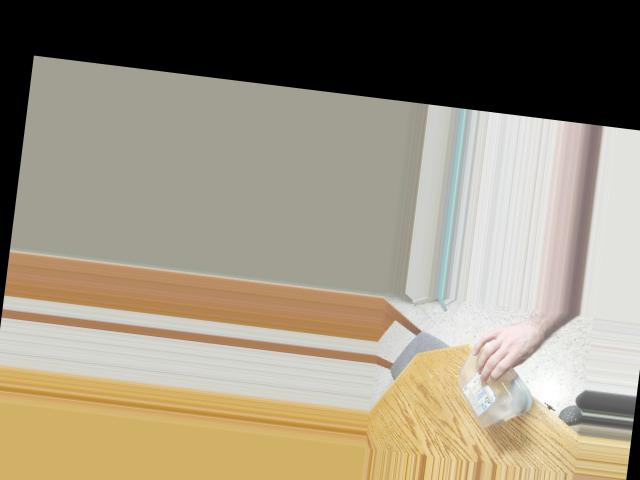cheese: (452, 331, 537, 431)
